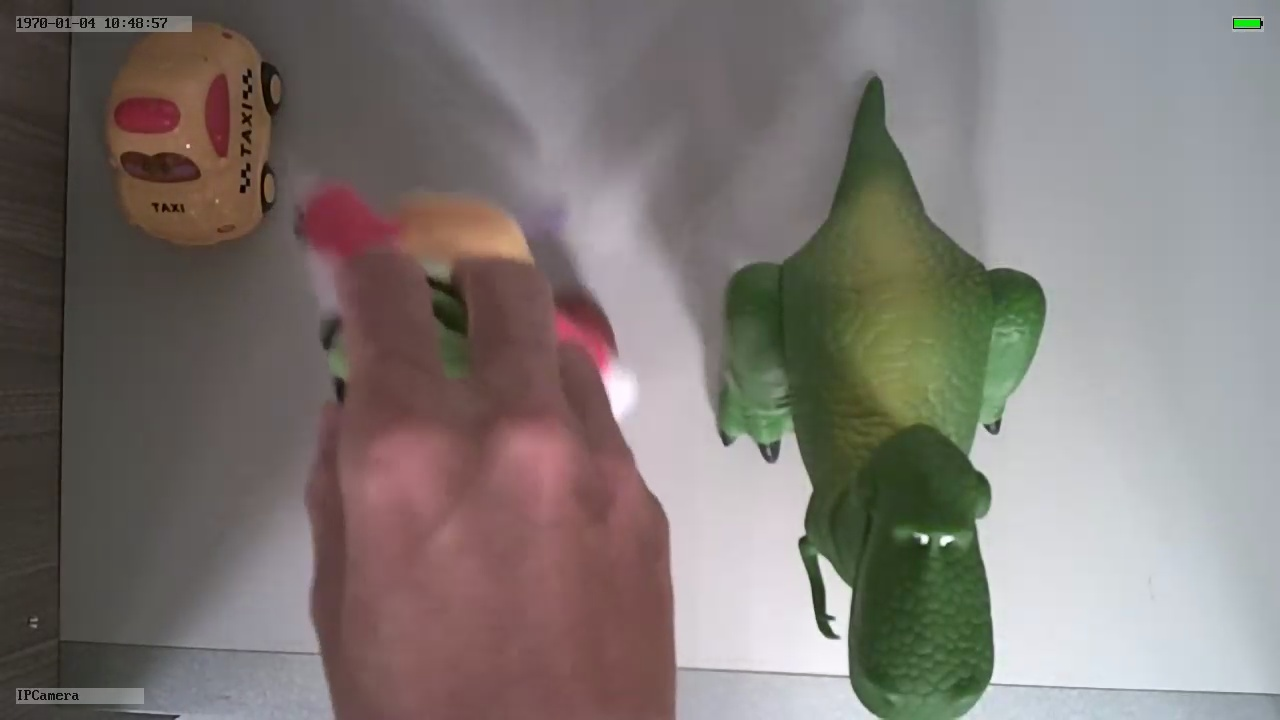car: (107, 19, 281, 248)
rex: (718, 144, 1049, 720)
